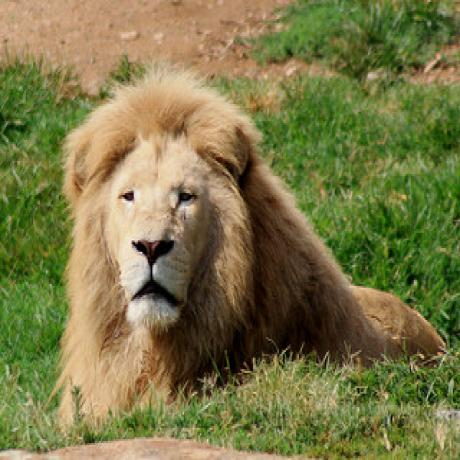Lion: (56, 64, 448, 429)
